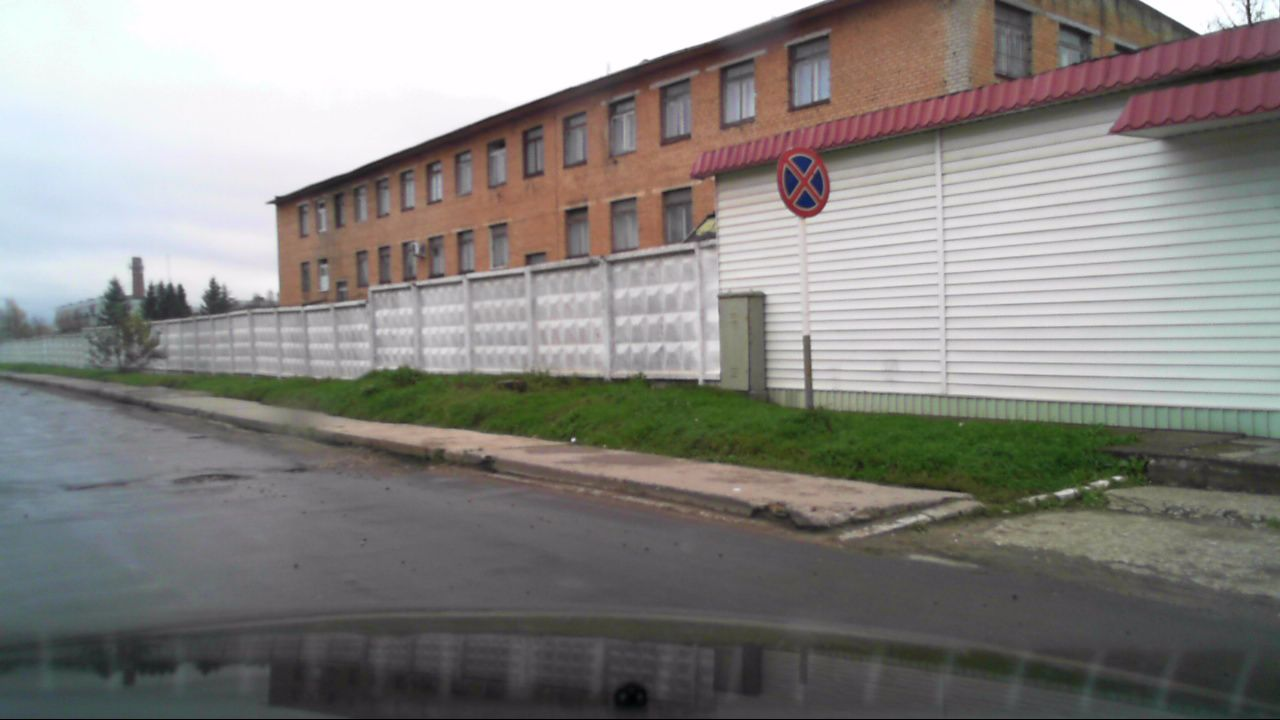No Parking: (775, 151, 828, 217)
